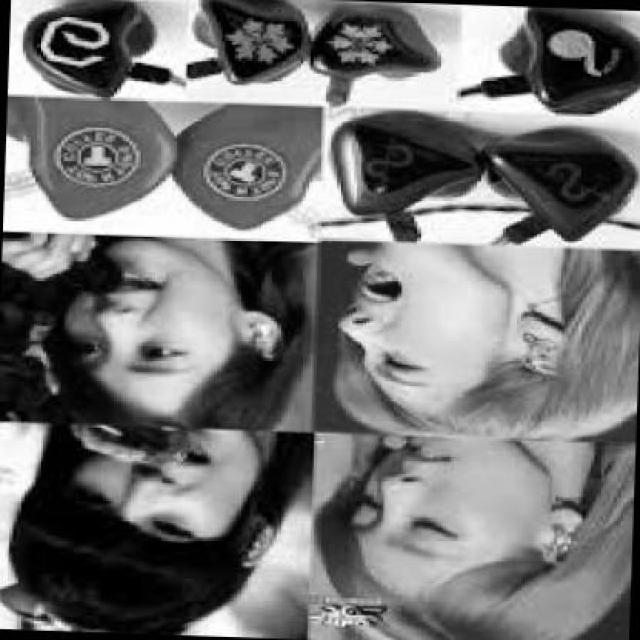earphone: (524, 332, 567, 397), (245, 307, 288, 362), (544, 519, 578, 574), (244, 523, 279, 576)
